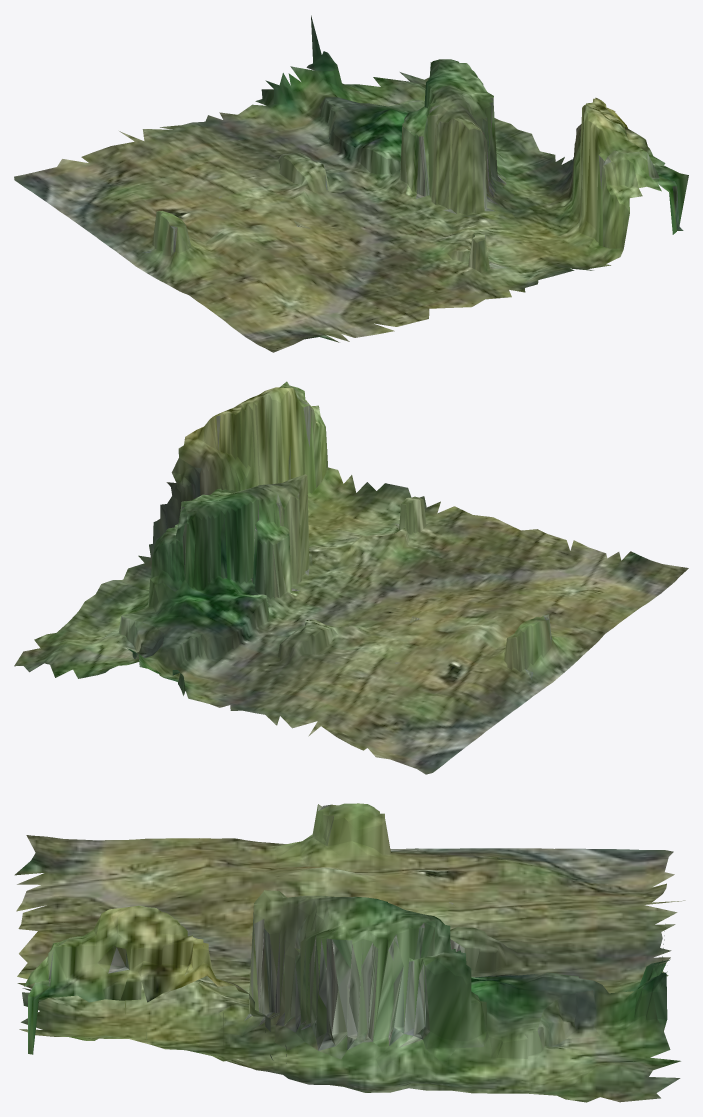
File: Tile_003_001_L14_14131.glb
3 views of the same model, one above another, from view 1: azimuth 30°, elevation 25°; view 2: azimuth 150°, elevation 25°; view 3: azimuth 270°, elevation 25° (orthographic). The views are drawn at different scales.
Parts seen in each view (by area): view 1: rtc; view 2: rtc; view 3: rtc.
Boxes of the visible parts, x1=… form: rtc: x1=14, y1=15, x2=688, y2=352; rtc: x1=14, y1=381, x2=688, y2=774; rtc: x1=14, y1=803, x2=685, y2=1102.
Size of the model in its own units: 59.27 by 17.87 by 65.39.
1 material, 1 textured.
